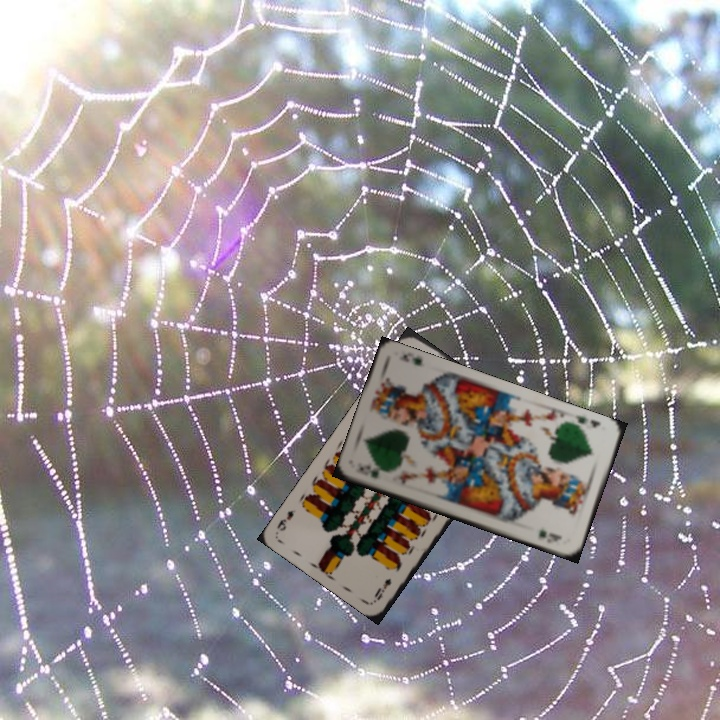E9: (370, 574, 394, 603)
GK: (571, 411, 602, 431), (355, 463, 381, 481)
